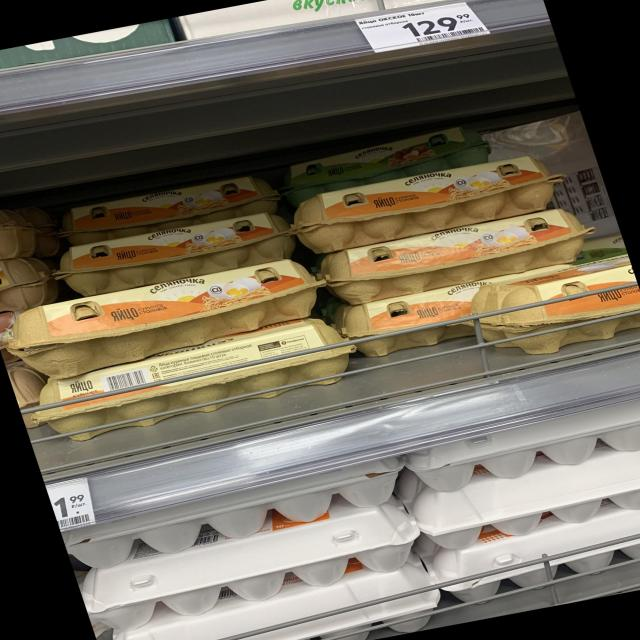organic waste: (0, 252, 331, 383), (283, 147, 577, 258), (309, 203, 607, 310), (46, 205, 306, 302), (46, 166, 286, 249), (470, 259, 640, 364), (0, 249, 64, 318)
